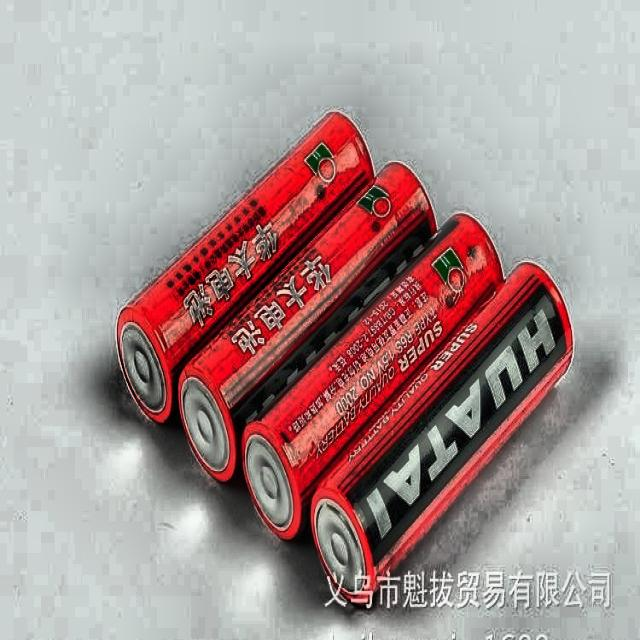Non-Valuable Waste - Batteries: (310, 263, 572, 604), (241, 214, 502, 539), (179, 164, 436, 481), (116, 113, 374, 423)
